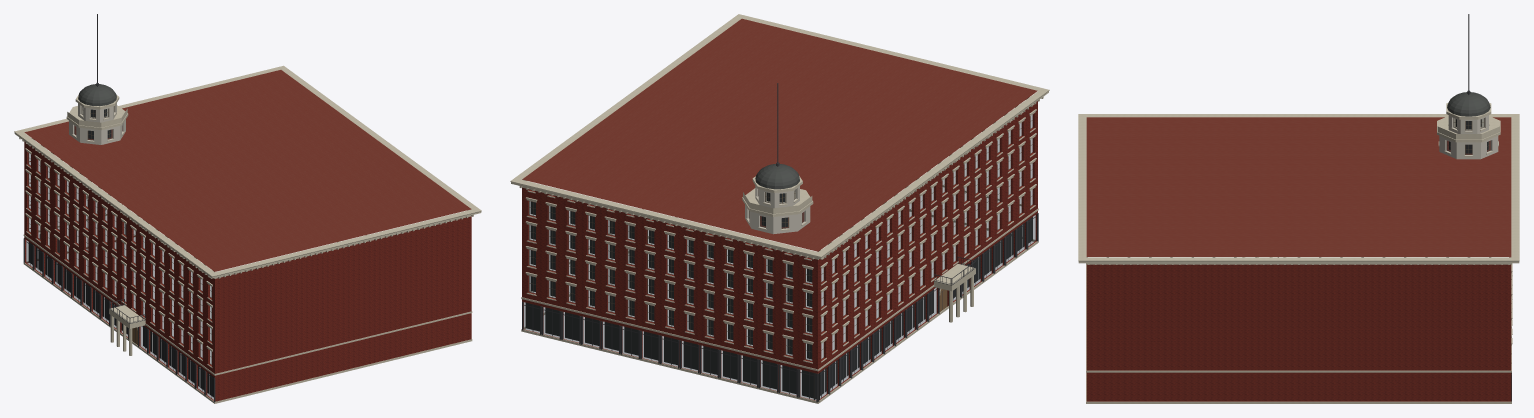
The model's file is tremont_house_1871__hotel_1850_1871.glb.
3 views of the same model, side by side, from view 1: azimuth 30°, elevation 25°; view 2: azimuth 150°, elevation 25°; view 3: azimuth 270°, elevation 25° (orthographic). The views are drawn at different scales.
Visible parts, largest first — view 1: tremont_house_1871__hotel_1850_1871; view 2: tremont_house_1871__hotel_1850_1871; view 3: tremont_house_1871__hotel_1850_1871.
Part boxes in pixels (<box>): tremont_house_1871__hotel_1850_1871: <box>14,14,481,403</box>; tremont_house_1871__hotel_1850_1871: <box>510,14,1049,403</box>; tremont_house_1871__hotel_1850_1871: <box>1078,14,1519,403</box>.
Size of the model in its own units: 46.33 by 39.8 by 56.98.
Materials: 10 (3 with a texture image).
